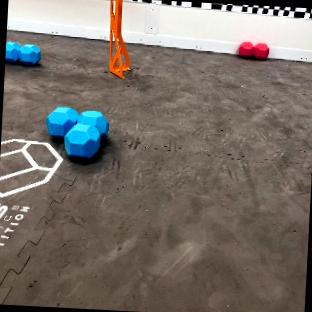V5_BLUE: (45, 105, 111, 159), (5, 41, 40, 65)
V5_RED: (238, 41, 269, 58)
